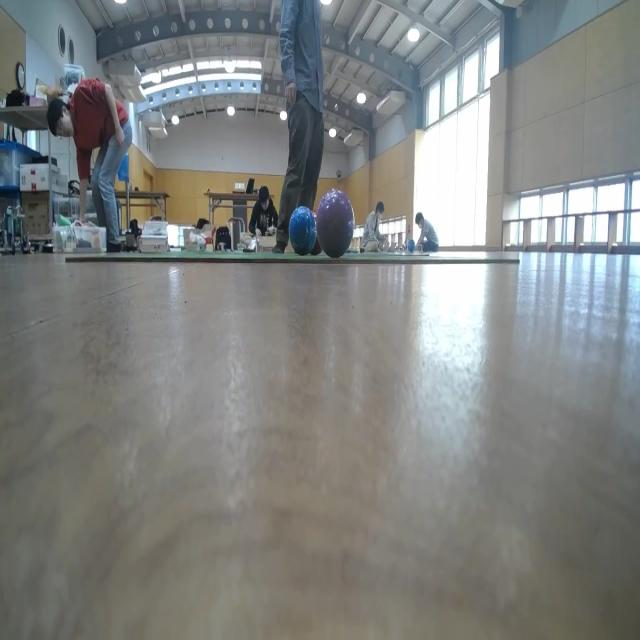blue_ball: (290, 206, 316, 254)
purple_ball: (318, 191, 355, 257)
